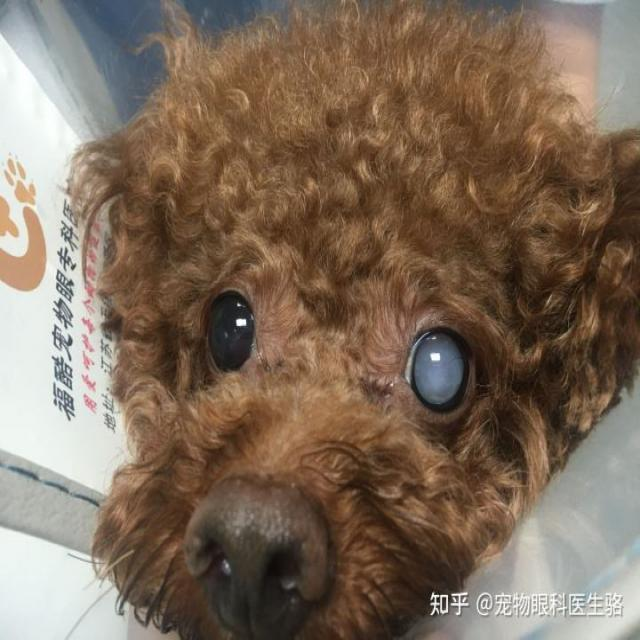eye: (398, 320, 481, 422), (200, 285, 260, 385)
